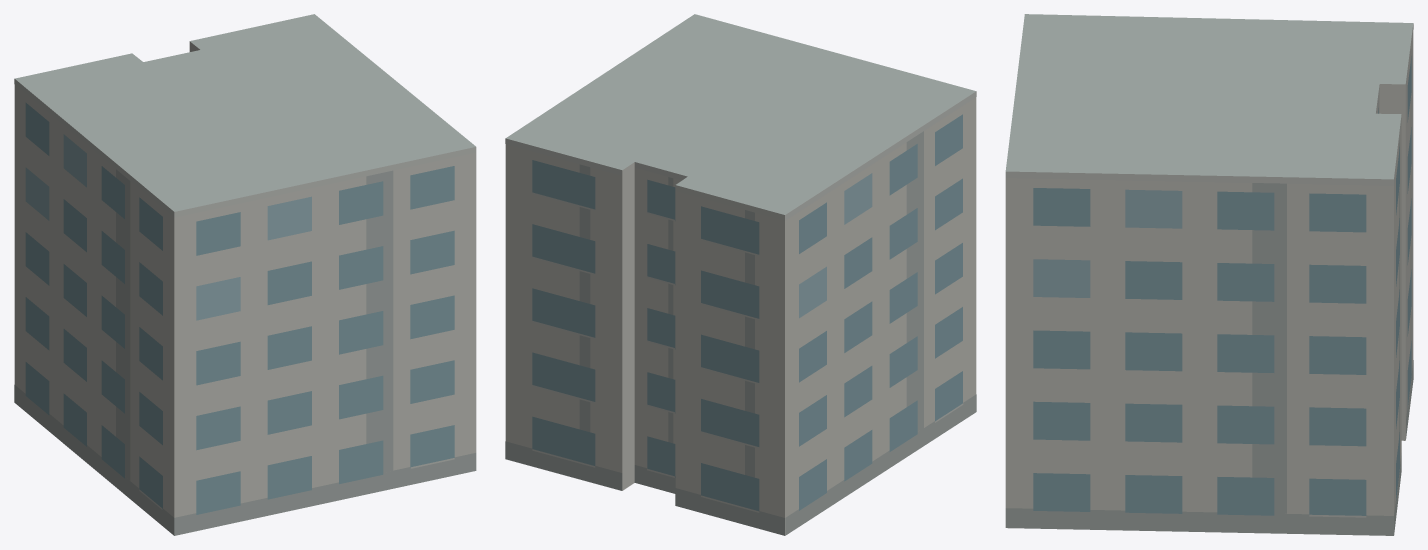
The model's file is survey-upis-33035667.glb.
3 renders of one model, left to right at view 1: azimuth 30°, elevation 25°; view 2: azimuth 150°, elevation 25°; view 3: azimuth 270°, elevation 25°, orthographic. The views are drawn at different scales.
Parts seen in each view (by area): view 1: survey-upis-33035667.tmp; view 2: survey-upis-33035667.tmp; view 3: survey-upis-33035667.tmp.
Part boxes in pixels (left/top/right/bottom): survey-upis-33035667.tmp: left=14, top=14, right=476, bottom=535; survey-upis-33035667.tmp: left=505, top=14, right=976, bottom=535; survey-upis-33035667.tmp: left=1005, top=14, right=1413, bottom=535.
Size of the model in its own units: 13.49 by 13.55 by 14.06.
